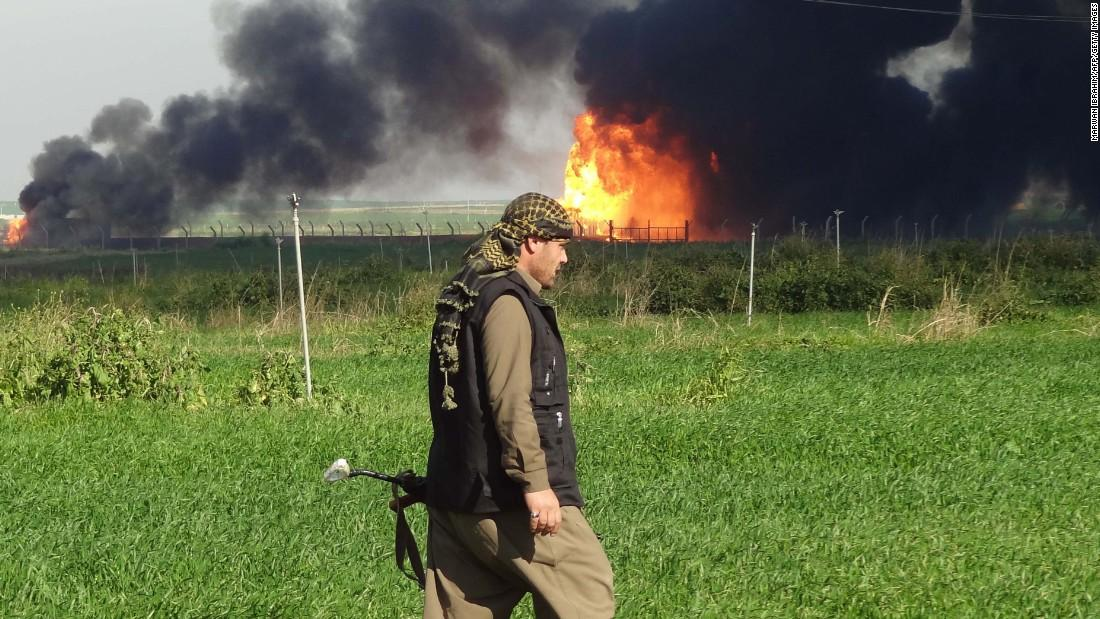fire: (573, 128, 673, 228)
smoke: (190, 82, 345, 190)
